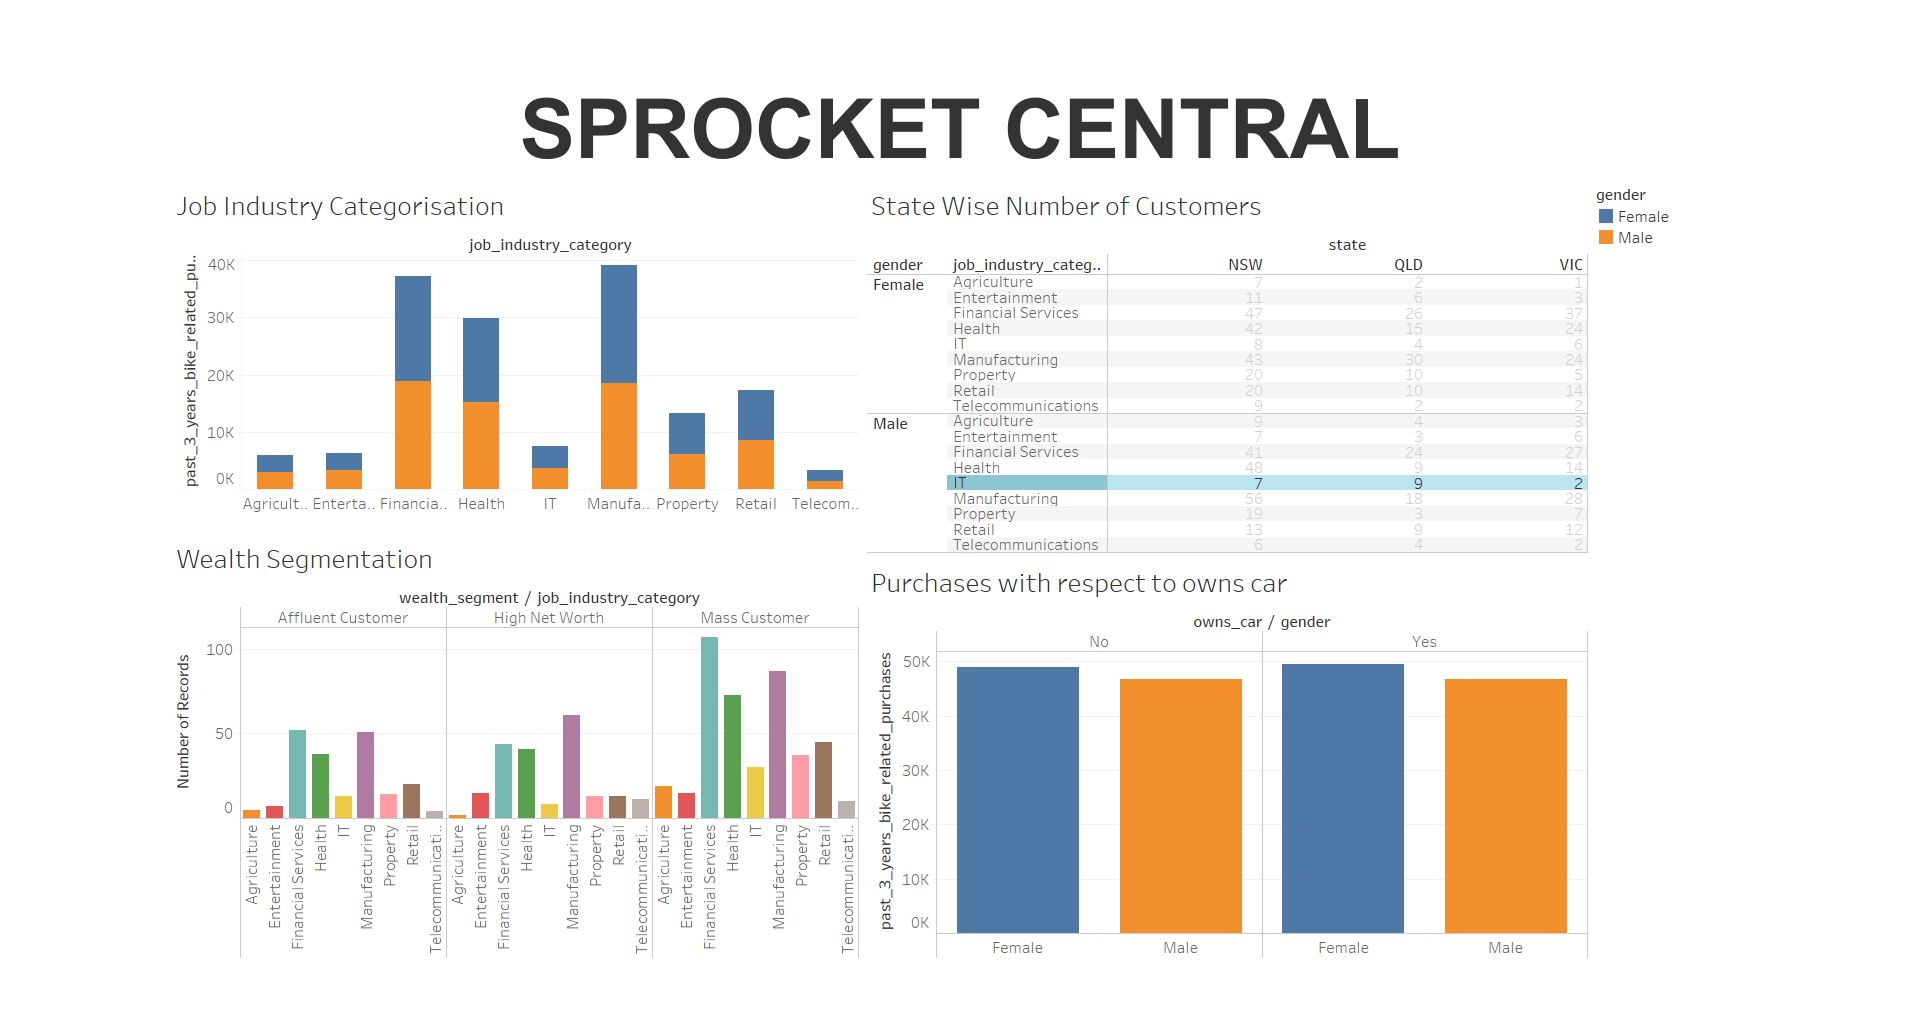

The dashboard page shown, as its layout file describes it:
{"tool":"tableau","page":{"name":"Dashboard 1","canvas":[1600,900],"ordinal":0},"visuals":[{"type":"title","box":[8,8,1584,101]},{"type":"worksheet","title":"Sheet 1","mark":"Bar","rows":["past_3_years_bike_related_purchases"],"cols":["job_industry_category"],"box":[8,109,695,352.5]},{"type":"worksheet","title":"Sheet 2","mark":"Automatic","rows":["gender","job_industry_category"],"cols":["state"],"box":[703,109,729,377]},{"type":"legend","title":"Sheet 1","param":"[federated.06ao03h0xsn76i1b76lbp16dx39h].[none:gender:nk]","box":[1432,109,160,72]},{"type":"worksheet","title":"Sheet 3","mark":"Automatic","rows":["Number of Records"],"cols":["wealth_segment","job_industry_category"],"box":[8,461.5,695,430.5]},{"type":"worksheet","title":"Sheet 4","mark":"Automatic","rows":["past_3_years_bike_related_purchases"],"cols":["owns_car","gender"],"box":[703,486,729,406]}]}

Visuals, with their boxes on the page's 1600x900 design canvas (x1, y1, x2, y2). These are canvas units, not pixel positions in the 1917x1029 screenshot, which may show the page scaled, cropped or inside an application window:
title: box(8, 8, 1592, 109)
"Sheet 1" worksheet (Bar marks): box(8, 109, 703, 462)
"Sheet 2" worksheet: box(703, 109, 1432, 486)
"Sheet 1" legend: box(1432, 109, 1592, 181)
"Sheet 3" worksheet: box(8, 462, 703, 892)
"Sheet 4" worksheet: box(703, 486, 1432, 892)
